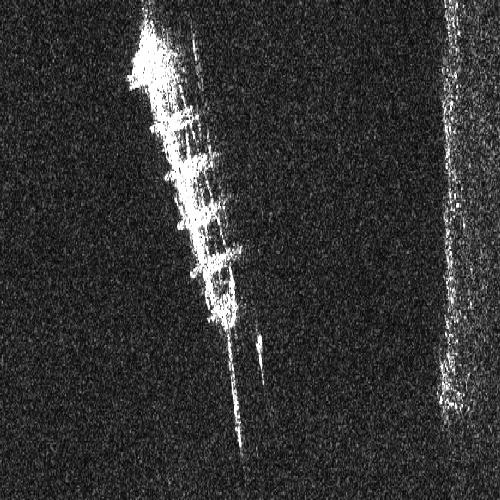ship: (129, 21, 238, 334)
